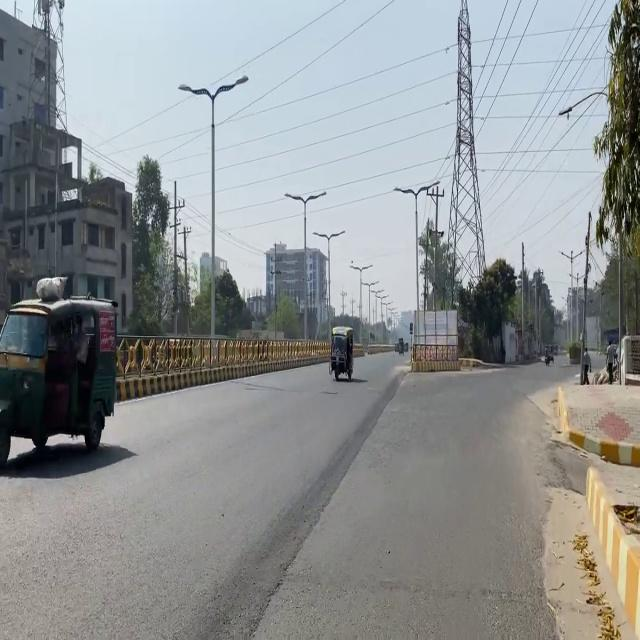Bench: (328, 325, 354, 381)
Construction-barrier: (226, 423, 388, 640), (553, 384, 639, 466), (566, 428, 639, 466), (410, 358, 460, 371)
Fallen-tree: (543, 344, 554, 366)
Garbage-bin: (605, 339, 618, 384), (580, 347, 591, 384)
Pothole: (467, 382, 637, 638)
Traffic-cone: (0, 275, 119, 467), (409, 308, 460, 371)
